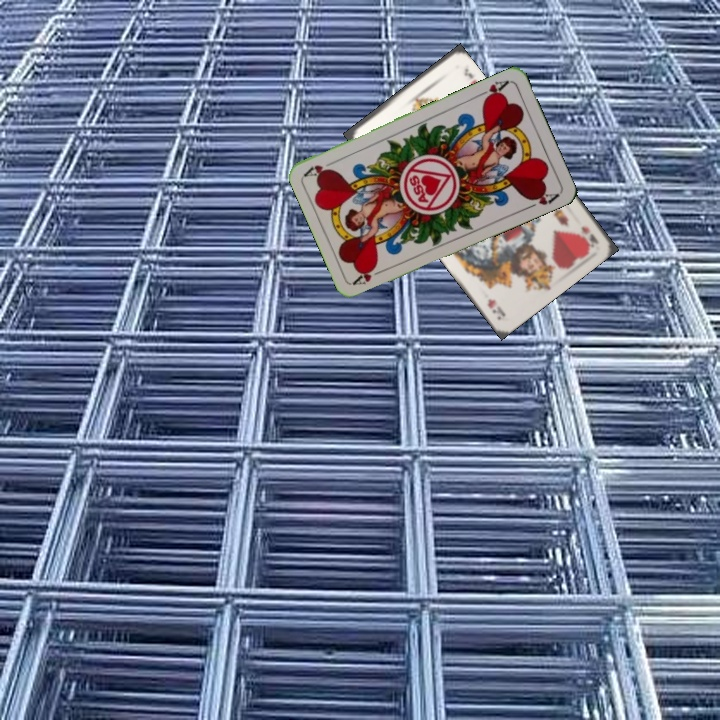HA: (473, 76, 512, 104), (349, 262, 388, 288)
HK: (576, 222, 601, 246)
